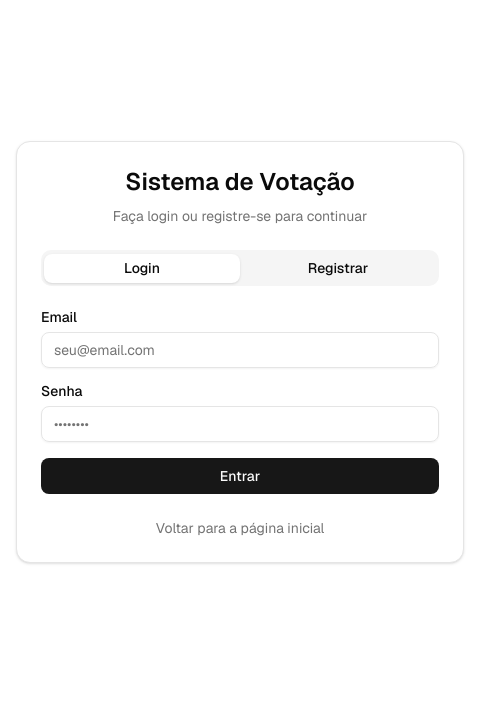
Test: Authentication Flow › Register › validates password minimum length
Click the tab "Registrar". click: click(338, 268)
box: [240,254,436,282]
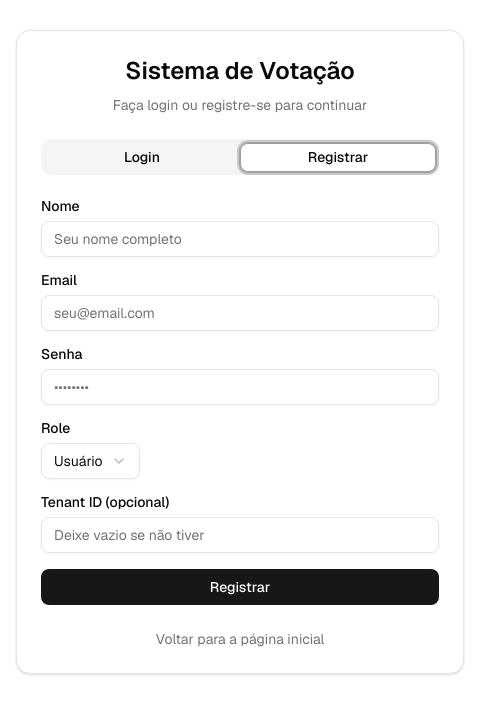
Type "Test User" into the field labelled "Nome". click: (240, 239)
box: [41,221,439,257]
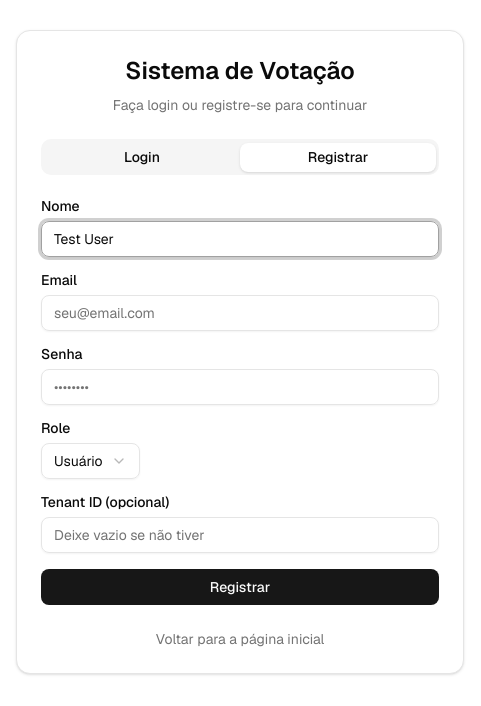
Type "test@example.com" into the field labelled "Email". click: (240, 313)
box: [41,295,439,331]
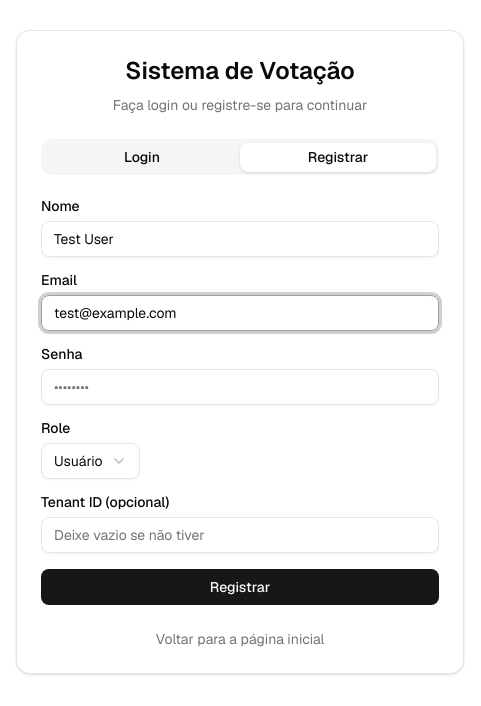
Type "123" into the password field labelled "Senha". click: (240, 387)
box: [41,369,439,405]
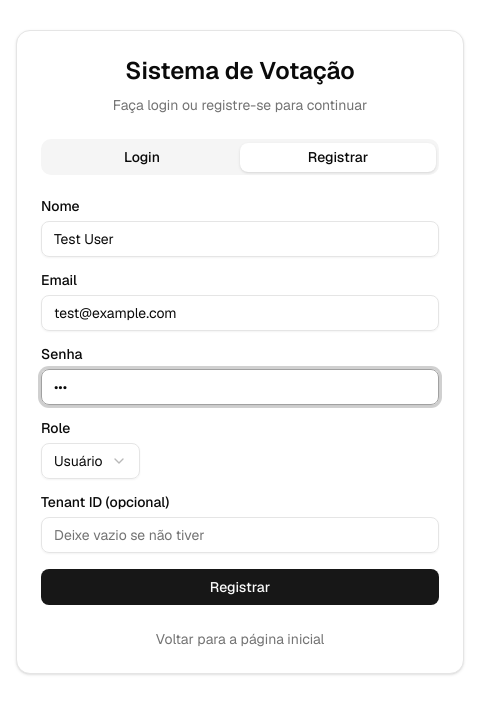
Click the button "Registrar". click: click(240, 587)
box: [41,569,439,605]
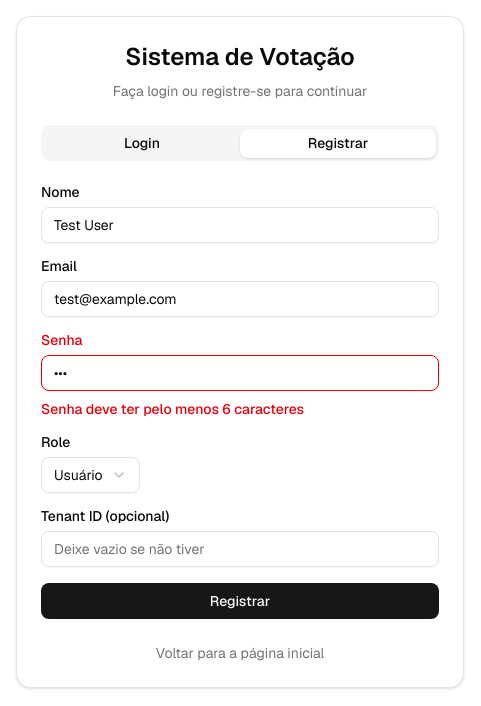
expect the text "Senha deve ter pelo menos 6 caracteres" is shown: met, box [41,400,304,418]
